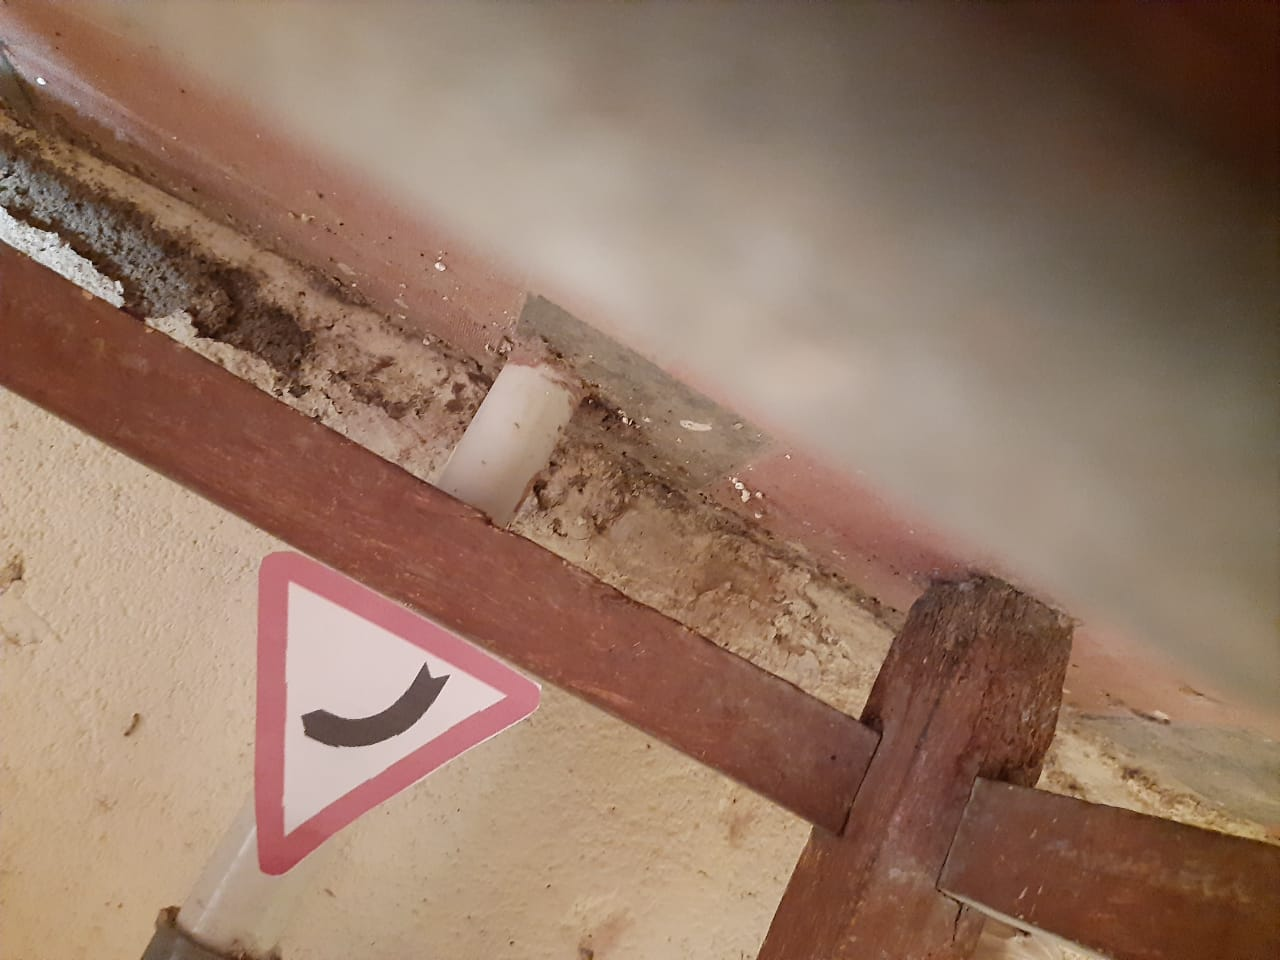RIGHT CURVE: (222, 512, 559, 881)
